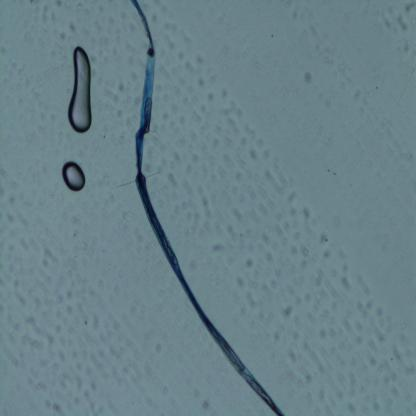Air bubble: (68, 41, 95, 136), (63, 161, 86, 192)
Background material: (247, 290, 275, 326), (295, 338, 324, 372), (52, 12, 80, 40), (28, 313, 52, 345), (310, 283, 330, 318), (339, 366, 360, 398), (72, 389, 97, 415), (267, 167, 286, 195), (42, 393, 64, 416), (258, 230, 274, 261), (302, 206, 320, 233), (378, 360, 398, 384), (391, 9, 410, 33), (339, 262, 355, 290), (200, 183, 212, 219), (71, 272, 88, 297), (214, 166, 231, 190), (36, 0, 51, 27), (292, 244, 312, 264), (18, 331, 39, 348), (352, 318, 365, 345), (257, 195, 275, 214), (223, 120, 240, 140), (119, 206, 135, 227), (260, 279, 278, 297), (220, 102, 243, 116), (105, 86, 121, 106), (168, 150, 188, 166), (62, 286, 74, 312), (389, 340, 403, 362), (39, 360, 61, 374), (41, 250, 56, 270), (236, 146, 249, 169), (240, 256, 256, 274), (327, 211, 343, 229), (57, 336, 76, 351), (354, 299, 375, 312), (287, 371, 303, 388), (33, 374, 48, 392), (95, 170, 110, 188), (278, 301, 295, 316), (141, 324, 156, 341), (78, 359, 95, 374), (164, 32, 176, 52), (269, 226, 283, 243), (298, 68, 312, 85), (317, 327, 332, 342), (233, 273, 247, 289), (98, 118, 111, 135), (76, 376, 88, 394), (97, 358, 109, 376), (107, 344, 122, 358), (164, 20, 178, 35), (10, 278, 23, 294), (162, 114, 174, 131), (341, 310, 351, 330), (273, 324, 284, 342), (300, 289, 314, 303), (285, 349, 298, 364), (200, 221, 215, 234), (89, 314, 101, 330), (193, 70, 205, 86), (377, 326, 388, 343), (186, 59, 199, 73), (190, 110, 203, 124), (70, 212, 83, 226), (176, 116, 188, 131), (134, 226, 144, 244), (156, 158, 168, 173), (318, 230, 329, 246), (186, 256, 197, 272), (245, 126, 258, 139), (245, 186, 257, 200), (226, 222, 238, 236), (186, 206, 196, 222), (116, 130, 126, 146), (316, 267, 324, 287), (247, 146, 258, 160), (130, 66, 139, 82), (0, 273, 8, 291), (289, 189, 300, 202), (91, 380, 101, 394), (406, 0, 416, 14), (201, 397, 210, 412), (127, 22, 137, 35), (219, 88, 230, 99), (152, 340, 162, 352), (120, 80, 128, 94), (206, 91, 216, 102), (168, 176, 178, 187), (55, 350, 65, 361), (235, 170, 244, 182), (291, 330, 303, 339), (106, 106, 115, 118), (322, 247, 331, 259), (160, 384, 168, 397), (194, 53, 204, 63), (302, 372, 312, 382), (52, 325, 63, 334), (150, 240, 158, 252), (372, 401, 380, 413), (80, 240, 88, 252), (122, 366, 131, 376), (119, 12, 128, 22), (239, 135, 246, 147), (7, 210, 13, 224), (82, 313, 89, 325), (376, 306, 384, 316), (193, 390, 201, 400), (116, 108, 124, 118), (96, 278, 104, 288), (214, 137, 221, 148), (369, 356, 376, 367), (294, 230, 301, 241), (399, 321, 408, 329), (216, 241, 225, 249), (108, 15, 114, 27), (55, 295, 63, 304), (282, 222, 290, 231), (328, 170, 338, 177), (238, 192, 245, 202), (193, 152, 199, 163), (291, 208, 299, 216), (230, 186, 238, 194), (177, 51, 184, 60), (151, 14, 160, 21), (262, 147, 269, 156), (8, 197, 14, 207), (0, 201, 6, 211), (331, 302, 338, 310), (75, 254, 81, 263), (106, 263, 113, 270), (187, 164, 193, 172), (135, 96, 140, 105)
Cotton: (128, 0, 286, 416)
